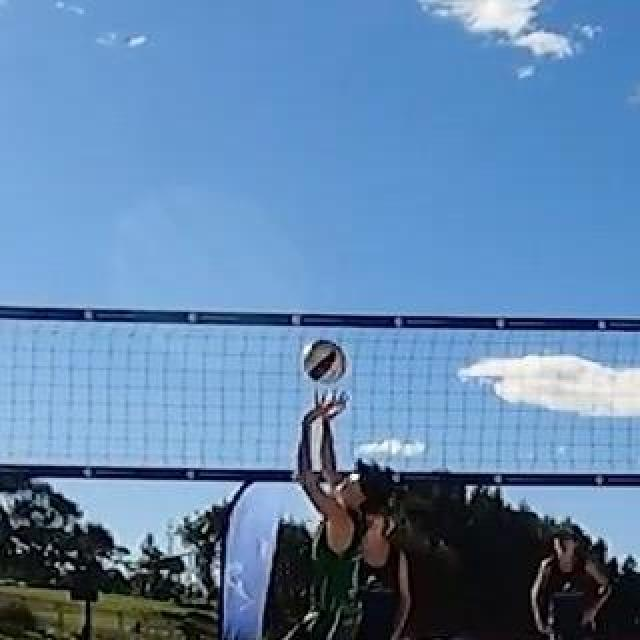volleyball: (305, 340, 345, 384)
